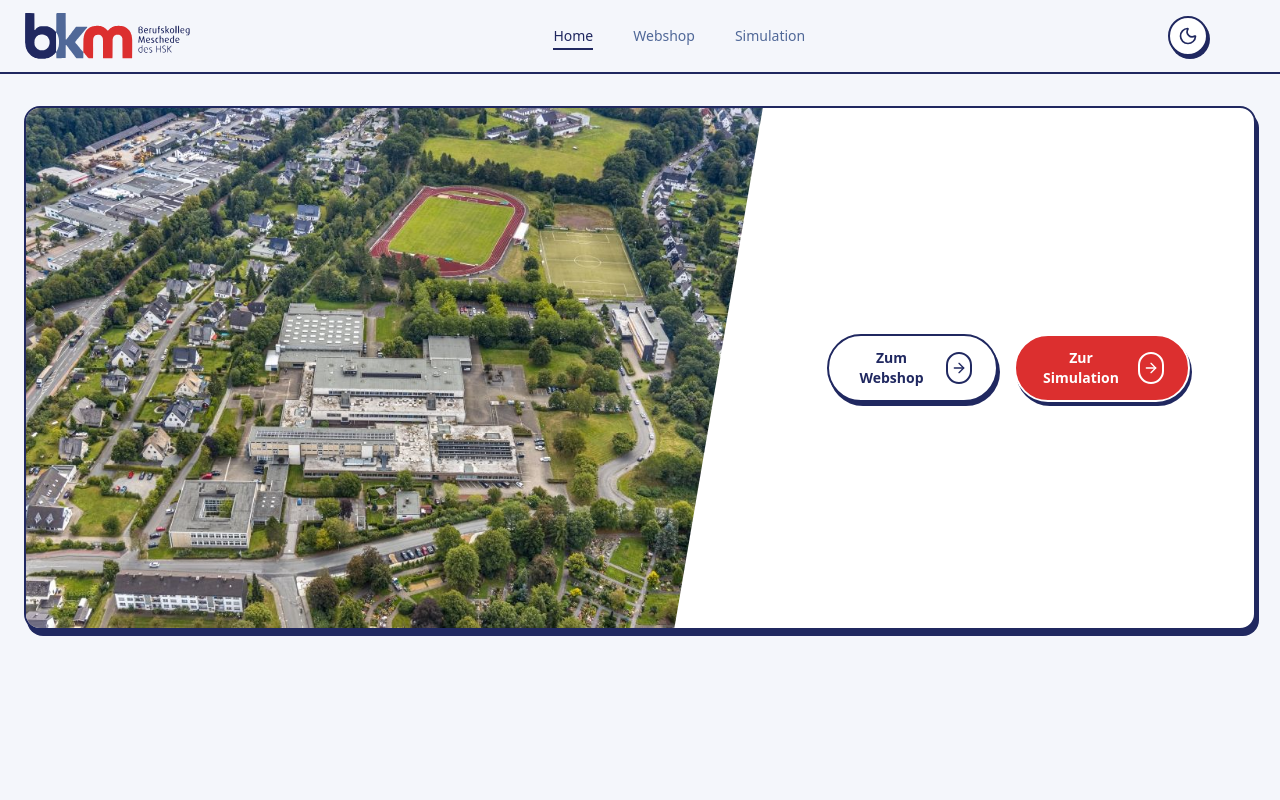
Test: App › starts on the landing page and navigates to the webshop and back
Check: the button "Zum Webshop" is shown, box [827, 334, 998, 402]
Click the button "Webshop" at (664, 36), box [633, 26, 695, 46]
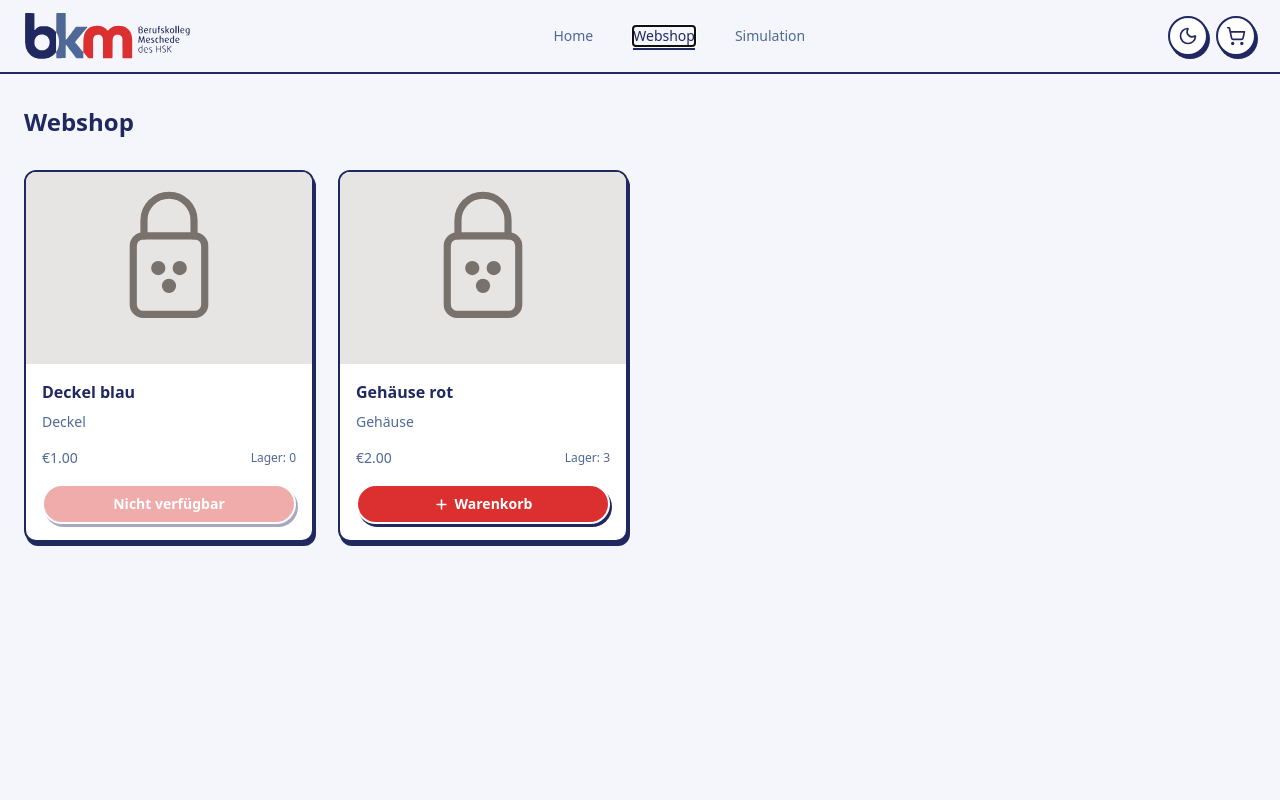
Check: the heading "Webshop" is shown, box [24, 105, 134, 138]
Check: the heading "Gehäuse rot" is shown, box [356, 381, 453, 403]
Click the button "Home" at (573, 36), box [553, 26, 593, 46]
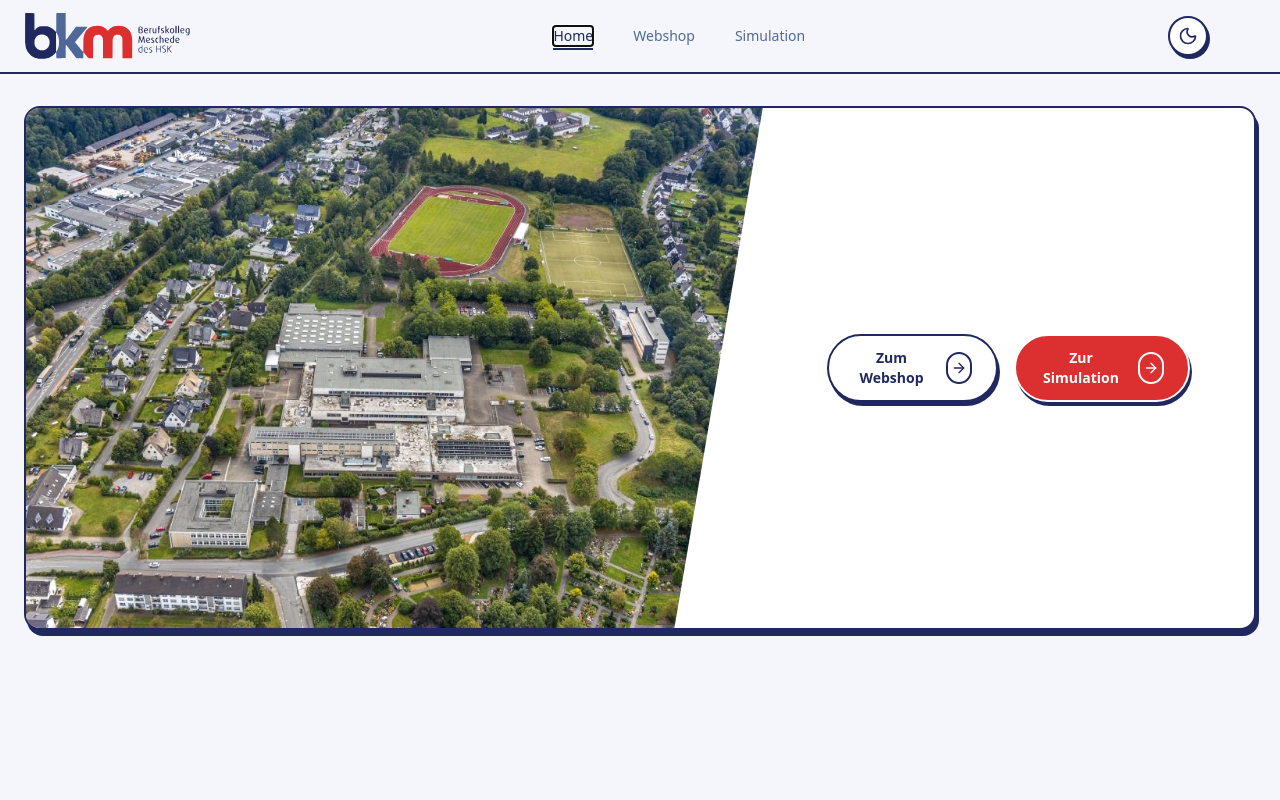
Check: the button "Zum Webshop" is shown, box [827, 334, 998, 402]
